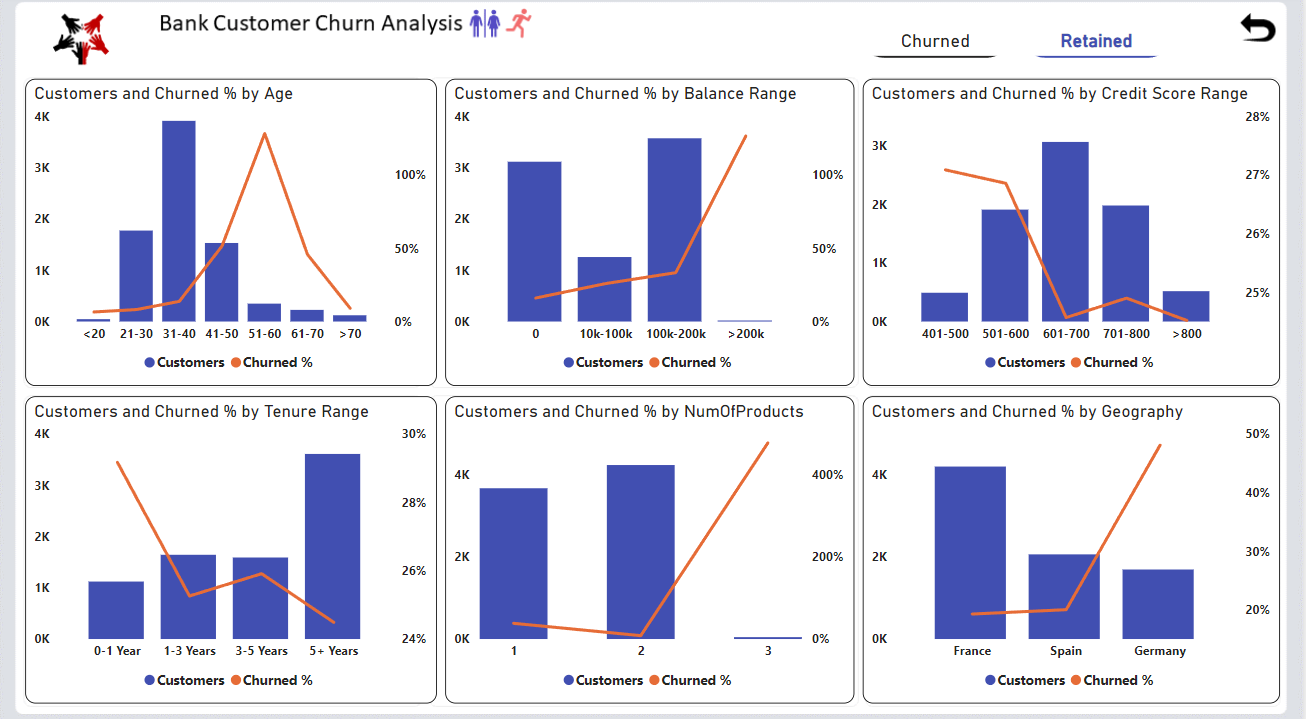

Layout of this report page (visuals, bound fields, positions):
{"tool":"powerbi","page":{"name":"All","canvas":[1280,720],"ordinal":1},"visuals":[{"type":"lineClusteredColumnComboChart","fields":{"Category":["Age Range.Age Range","Balance Range.Balance Range","Credit Score Range.Credit Score Range","Tenure Range.Tenure Range","Churn_Modelling.Geography","Churn_Modelling.NumOfProducts"],"Y":["_Metrics.Customers"],"Y2":["_Metrics.Churned %"]},"box":[25.8,82.2,403.7,301.8],"z":0},{"type":"lineClusteredColumnComboChart","fields":{"Category":["Balance Range.Balance Range"],"Y":["_Metrics.Customers"],"Y2":["_Metrics.Churned %"]},"box":[438,82.2,401.2,301.8],"z":1},{"type":"lineClusteredColumnComboChart","fields":{"Category":["Churn_Modelling.NumOfProducts"],"Y":["_Metrics.Customers"],"Y2":["_Metrics.Churned %"]},"box":[438,393.9,401.2,301.8],"z":2},{"type":"lineClusteredColumnComboChart","fields":{"Category":["Churn_Modelling.Geography"],"Y":["_Metrics.Customers"],"Y2":["_Metrics.Churned %"]},"box":[847.9,393.9,409.8,301.8],"z":3},{"type":"lineClusteredColumnComboChart","fields":{"Category":["Tenure Range.Tenure Range"],"Y":["_Metrics.Customers"],"Y2":["_Metrics.Churned %"]},"box":[25.8,393.9,403.7,301.8],"z":4},{"type":"lineClusteredColumnComboChart","fields":{"Category":["Credit Score Range.Credit Score Range"],"Y":["_Metrics.Customers"],"Y2":["_Metrics.Churned %"]},"box":[847.9,82.2,409.8,301.8],"z":5},{"type":"actionButton","box":[1200,16,57.7,38],"z":6},{"type":"advancedSlicerVisual","fields":{"Values":["Churn_Modelling.Exited"]},"box":[839.3,16,319,51.5],"z":7}]}

Visuals, with their boxes in screenshot pixels (x1, y1, x2, y2), scaled from the page's 1280x720 canvas onto the 1306x719 screenshot:
lineClusteredColumnComboChart - Age Range.Age Range x Balance Range.Balance Range: {"left": 26, "top": 82, "right": 438, "bottom": 383}
lineClusteredColumnComboChart - Balance Range.Balance Range x _Metrics.Customers: {"left": 447, "top": 82, "right": 856, "bottom": 383}
lineClusteredColumnComboChart - Churn_Modelling.NumOfProducts x _Metrics.Customers: {"left": 447, "top": 393, "right": 856, "bottom": 695}
lineClusteredColumnComboChart - Churn_Modelling.Geography x _Metrics.Customers: {"left": 865, "top": 393, "right": 1283, "bottom": 695}
lineClusteredColumnComboChart - Tenure Range.Tenure Range x _Metrics.Customers: {"left": 26, "top": 393, "right": 438, "bottom": 695}
lineClusteredColumnComboChart - Credit Score Range.Credit Score Range x _Metrics.Customers: {"left": 865, "top": 82, "right": 1283, "bottom": 383}
actionButton: {"left": 1224, "top": 16, "right": 1283, "bottom": 54}
advancedSlicerVisual - Churn_Modelling.Exited: {"left": 856, "top": 16, "right": 1182, "bottom": 67}
